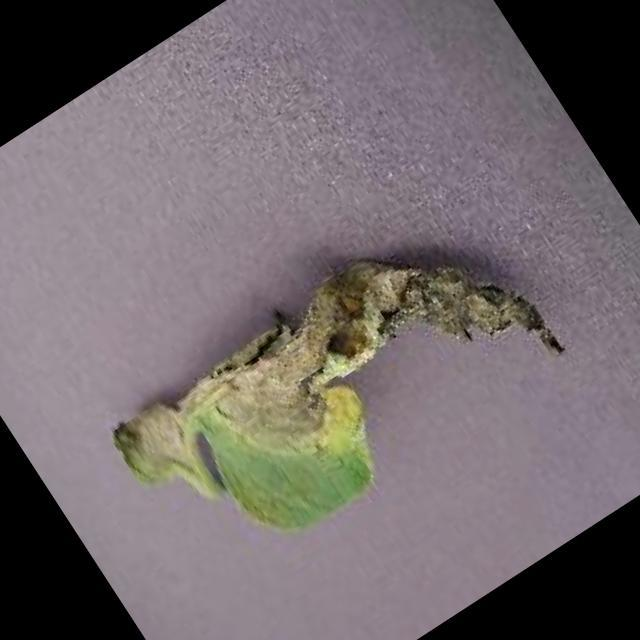Tomato late blight leaf: (96, 183, 574, 597)
